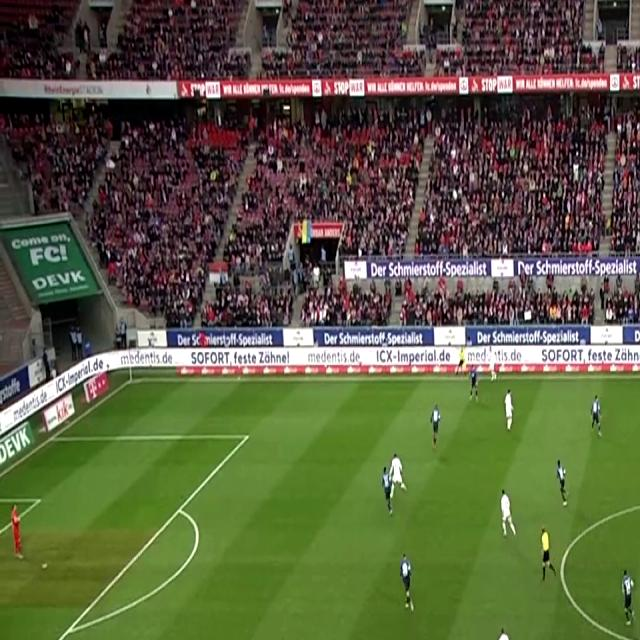goalkeeper: (4, 496, 27, 568)
referee: (540, 528, 556, 588)
soccer-player: (380, 446, 405, 514), (615, 561, 635, 630), (401, 549, 418, 618), (500, 484, 518, 542), (556, 455, 572, 510), (588, 390, 604, 439), (502, 386, 515, 439), (430, 402, 442, 453), (471, 362, 485, 402), (496, 621, 517, 640)
